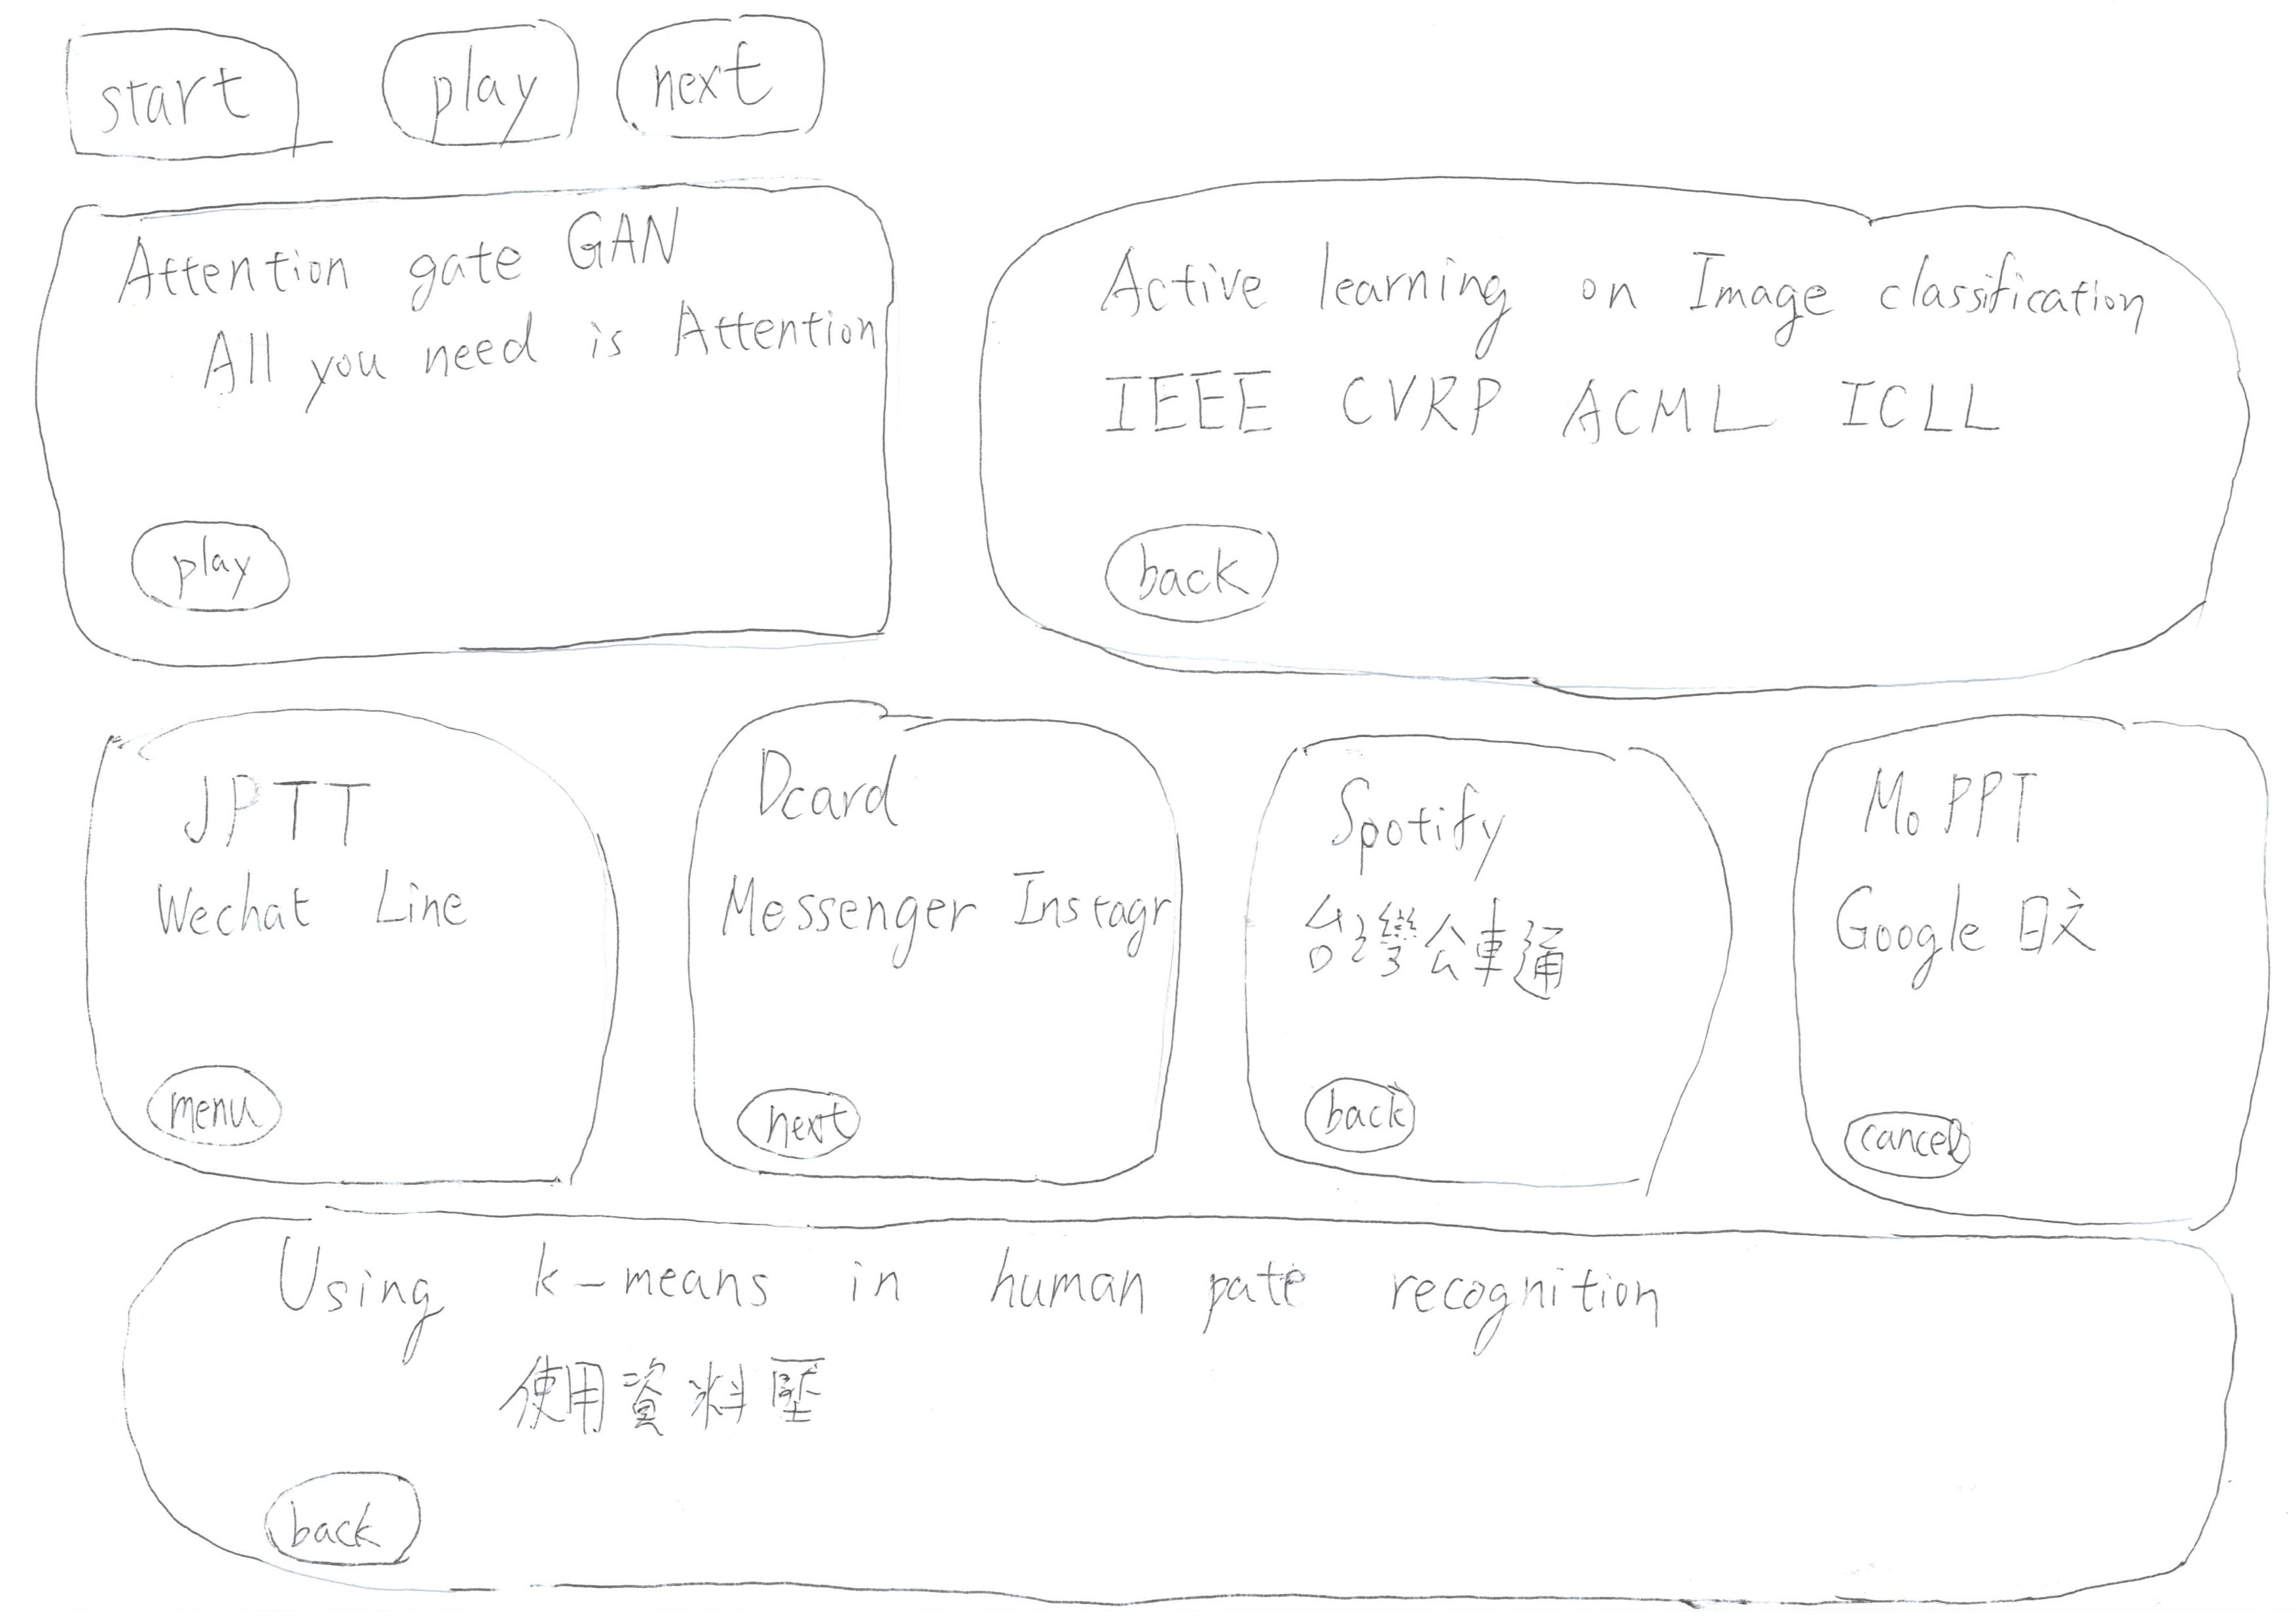back: (1086, 508, 1301, 638), (251, 1450, 445, 1591), (1290, 1056, 1445, 1165)
cancel: (1820, 1095, 2009, 1195)
double: (926, 162, 2296, 700), (23, 178, 926, 677)
menu: (142, 1049, 295, 1174)
next: (589, 2, 853, 160), (726, 1056, 890, 1169)
play: (359, 12, 589, 163), (121, 496, 299, 633)
quadruple: (39, 691, 645, 1200), (650, 680, 1225, 1200), (1197, 698, 1772, 1218), (1783, 707, 2296, 1250)
row: (5, 170, 2296, 708), (5, 680, 2296, 1218), (5, 1206, 2296, 1624), (16, 0, 2296, 190)
single: (47, 1202, 2271, 1624)
small-title: (253, 1213, 1684, 1346), (1085, 223, 2157, 352), (120, 220, 856, 387), (1306, 766, 1565, 910), (1848, 749, 2076, 852), (169, 749, 390, 851), (756, 731, 946, 844)
start: (33, 7, 338, 192)
text: (1079, 352, 2076, 462), (726, 859, 1146, 958), (139, 835, 499, 949), (513, 1343, 846, 1445), (1856, 881, 2106, 1000), (1306, 896, 1577, 986)
